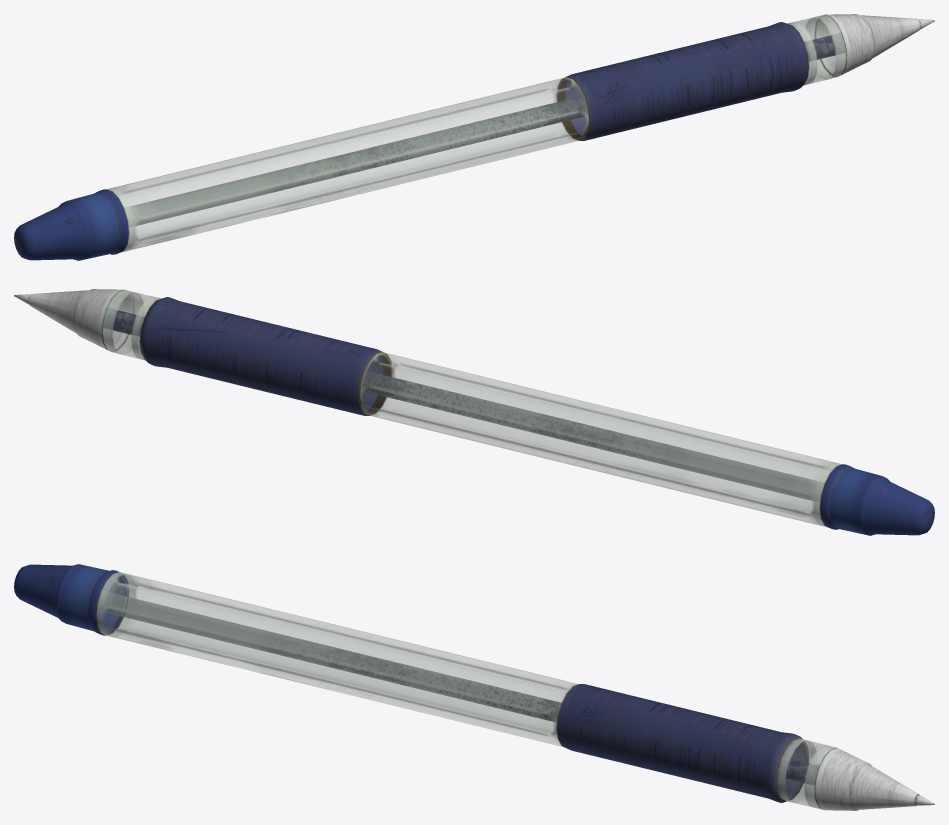
Rendered from the_pen.glb.
3 renders of one model, top to bottom at view 1: azimuth 30°, elevation 25°; view 2: azimuth 150°, elevation 25°; view 3: azimuth 330°, elevation 25°, orthographic.
Visible parts, largest first — view 1: Corpus_Low, Rezin_Low, Pastic_Low, Plastic_Low; view 2: Corpus_Low, Rezin_Low, Pastic_Low, Plastic_Low; view 3: Corpus_Low, Rezin_Low, Pastic_Low, Plastic_Low.
Boxes of the visible parts, x1,y1,x2,y2 form: Corpus_Low: [107, 14, 846, 252]; Rezin_Low: [14, 22, 808, 260]; Pastic_Low: [125, 33, 845, 226]; Plastic_Low: [815, 14, 920, 76]; Corpus_Low: [102, 289, 841, 527]; Rezin_Low: [140, 297, 934, 535]; Pastic_Low: [103, 308, 823, 501]; Plastic_Low: [28, 289, 133, 351]; Corpus_Low: [95, 571, 836, 810]; Rezin_Low: [14, 564, 808, 802]; Pastic_Low: [102, 592, 818, 784]; Plastic_Low: [815, 748, 919, 810].
Bounding box in the file's own units: 0.1434 × 0.00958 × 0.00958.
1 material, 1 textured.
